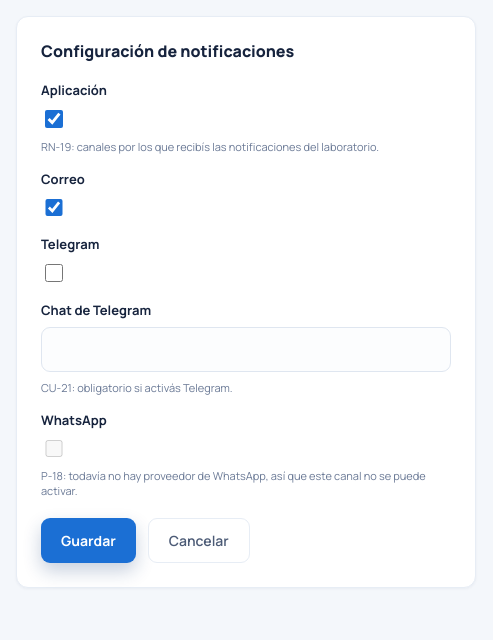
ConfiguracionNotificaciones › al guardar se queda en la pantalla y muestra la confirmación
Check: the checkbox labelled "Aplicación" is shown, box [45,110,63,128]
Click the button "Guardar". click: click(88, 541)
box: [41,518,136,563]
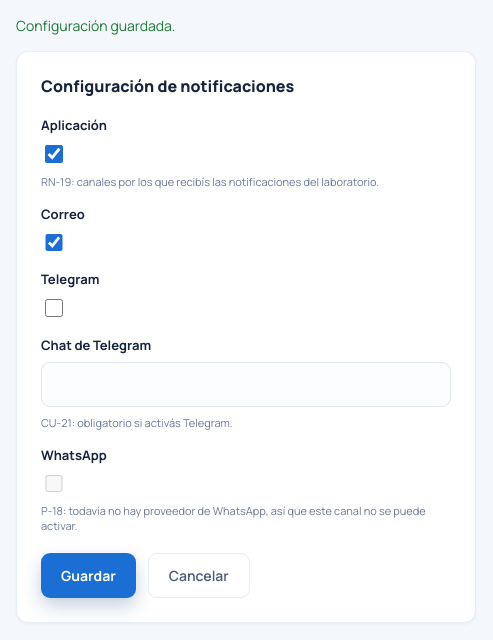
Check: the checkbox labelled "Aplicación" is shown, box [45,145,63,163]
Check: the message reads "Configuración guardada.", box [16,16,175,35]
